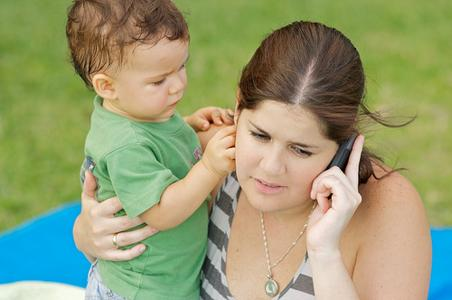person: (70, 20, 431, 299)
